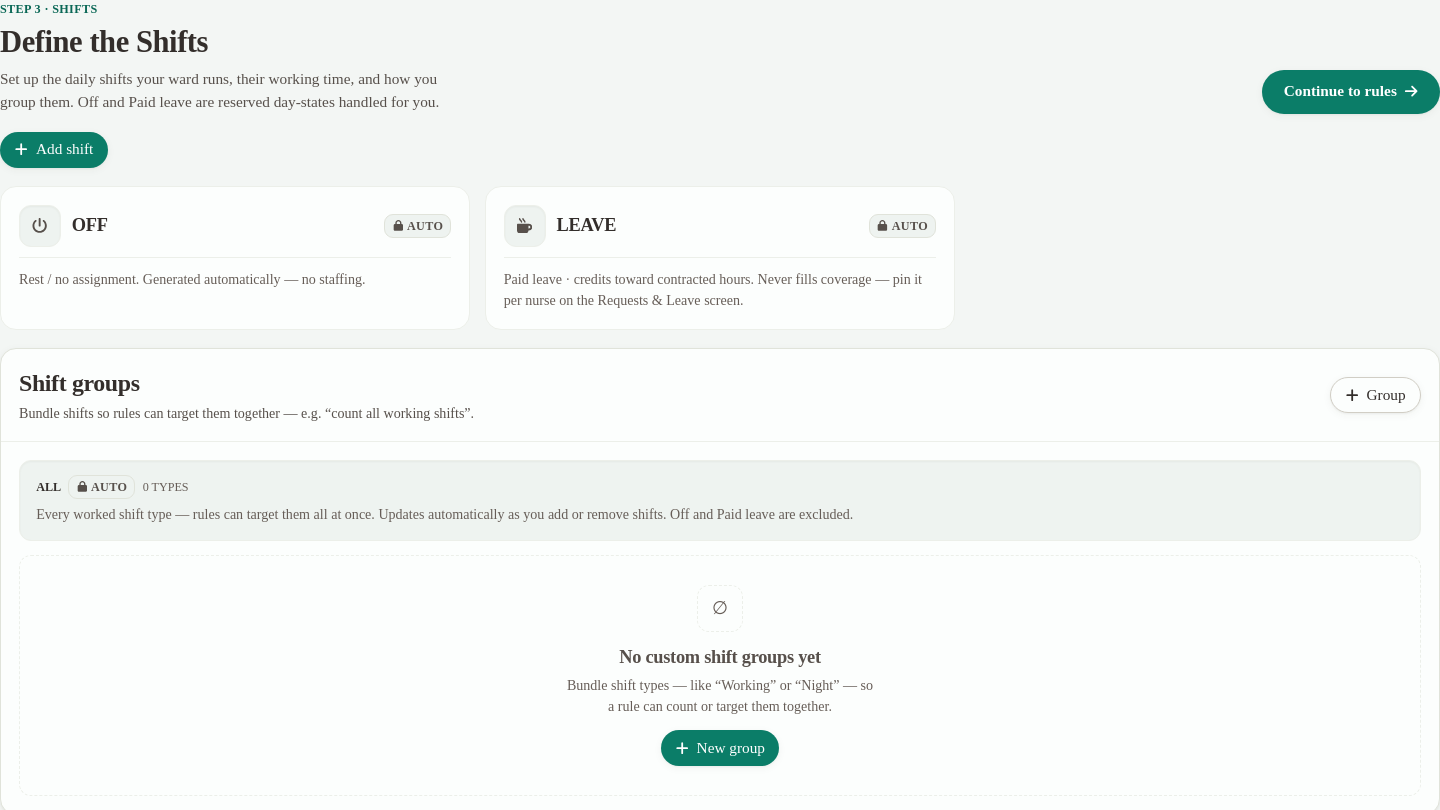
Test: ShiftTypeGrid — add + working-time reuse › reads a half-hour shift in decimal hours with a compact rest caption
This screenshot has width=1440, height=810.
Click the button with test id "add-shift-toggle" at coordinates (54, 150), box [0, 132, 108, 168]
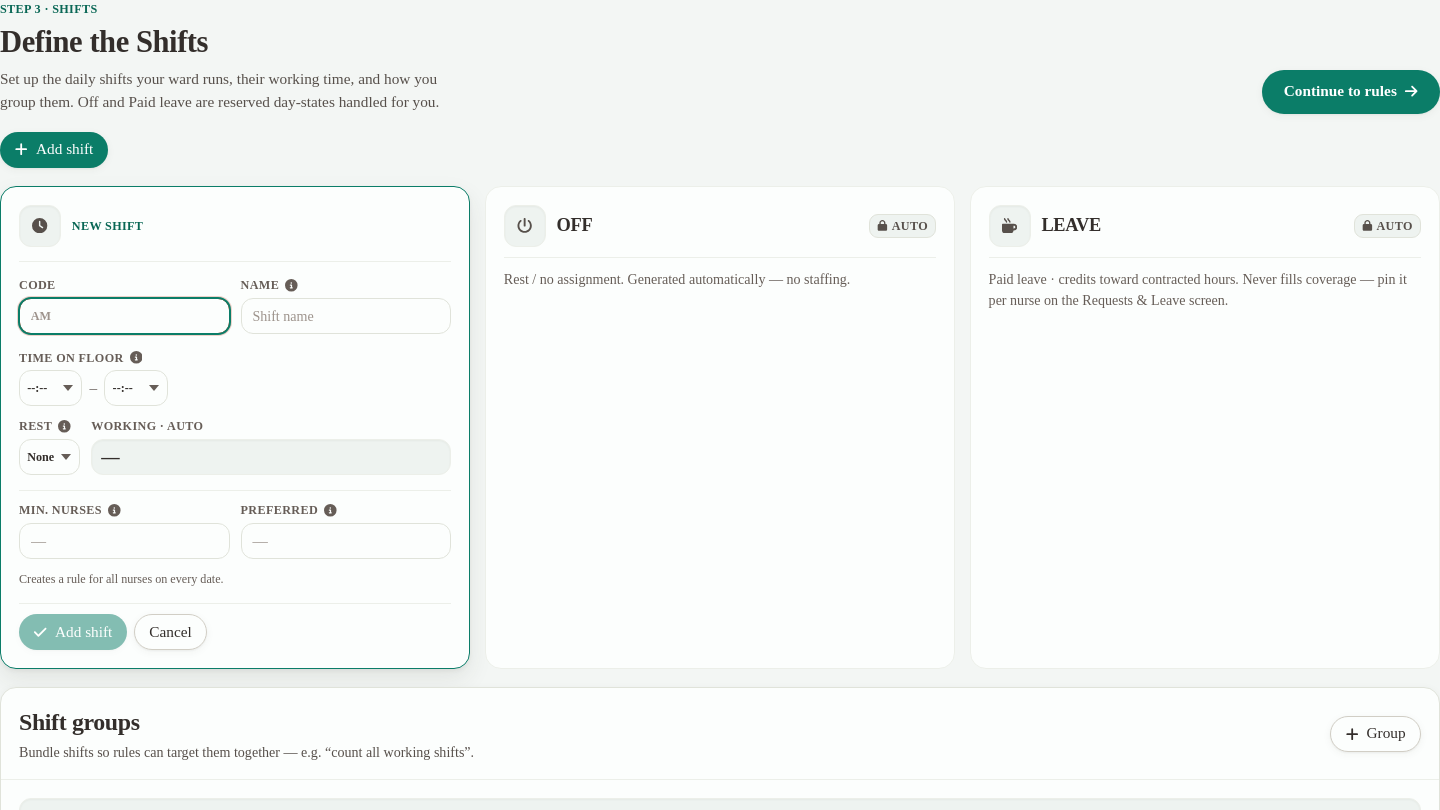
Select "07:00" in the dropdown with test id "shift-add-start" at coordinates (51, 388), box [19, 370, 82, 406]
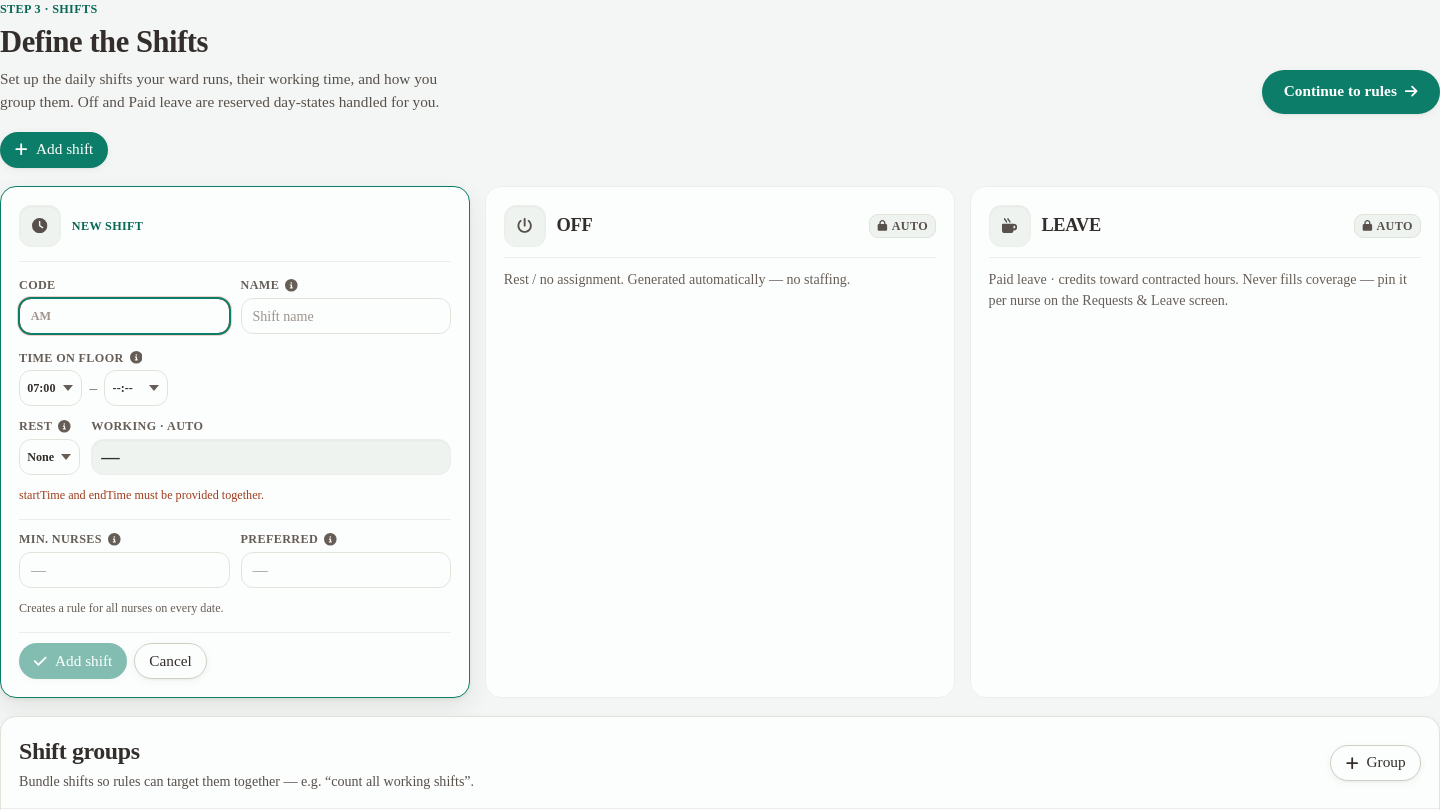
Select "19:00" in the dropdown with test id "shift-add-end" at coordinates (136, 388), box [104, 370, 168, 406]
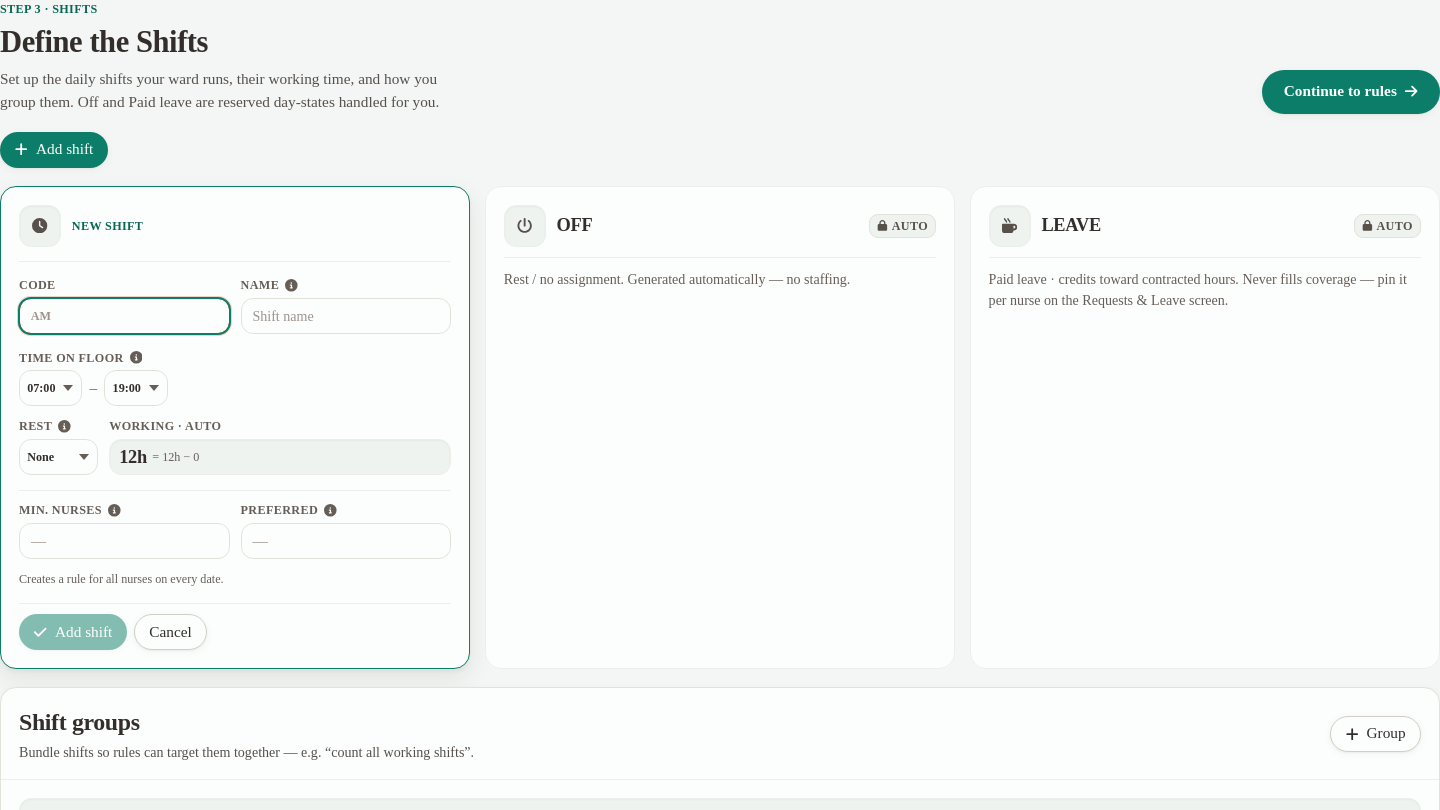
Select "30m" in the dropdown with test id "shift-add-rest" at coordinates (59, 457), box [19, 439, 98, 475]
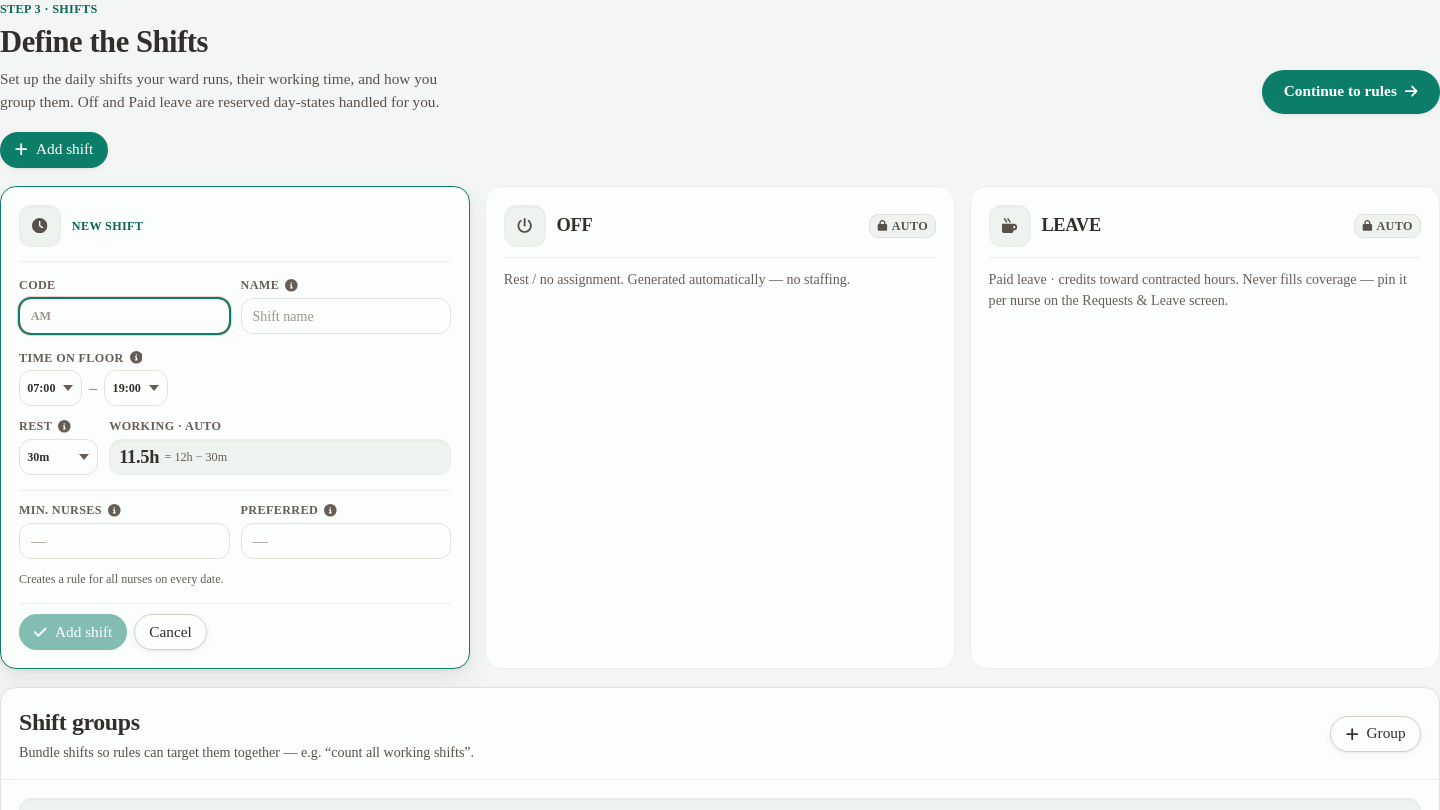
Check: the element with test id "shift-add-duration" shows "11.5h", box [119, 447, 159, 467]
Check: the element with test id "shift-add-duration" shows "= 12h − 30m", box [109, 439, 451, 475]
